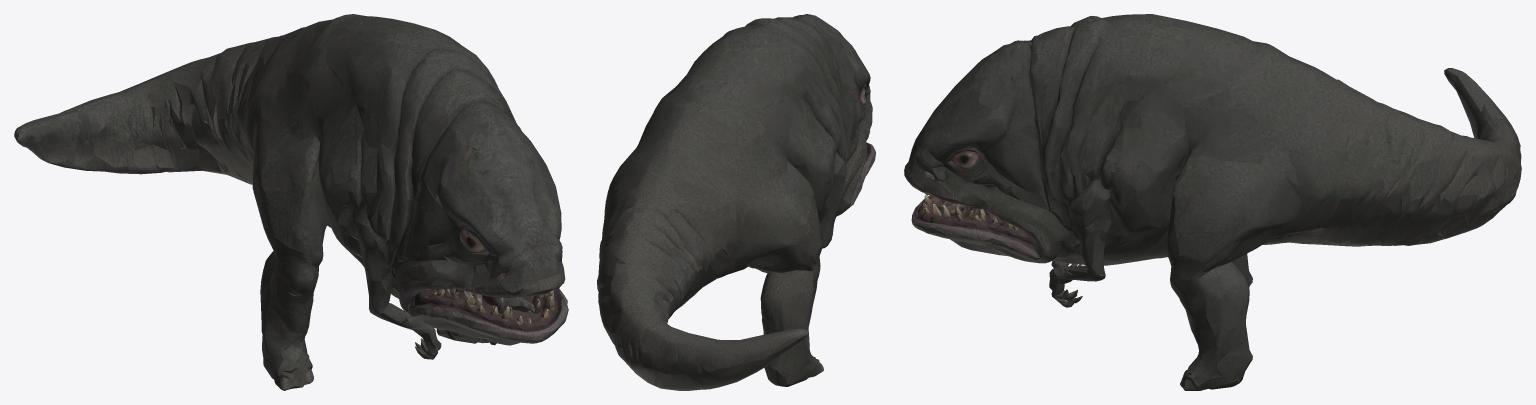
File: blurrg.glb
3 renders of one model, left to right at view 1: azimuth 30°, elevation 25°; view 2: azimuth 150°, elevation 25°; view 3: azimuth 270°, elevation 25°, orthographic. The views are drawn at different scales.
Parts seen in each view (by area): view 1: blurrg-centred; view 2: blurrg-centred; view 3: blurrg-centred.
Boxes of the visible parts, <box> form: blurrg-centred: <box>14,14,568,390</box>; blurrg-centred: <box>597,14,875,390</box>; blurrg-centred: <box>904,14,1521,390</box>.
Size of the model in its own units: 2.7 by 2.6 by 4.51.
1 material, 1 textured.
